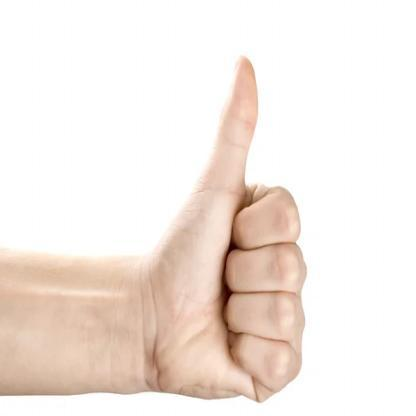thumb_up: (124, 55, 306, 406)
